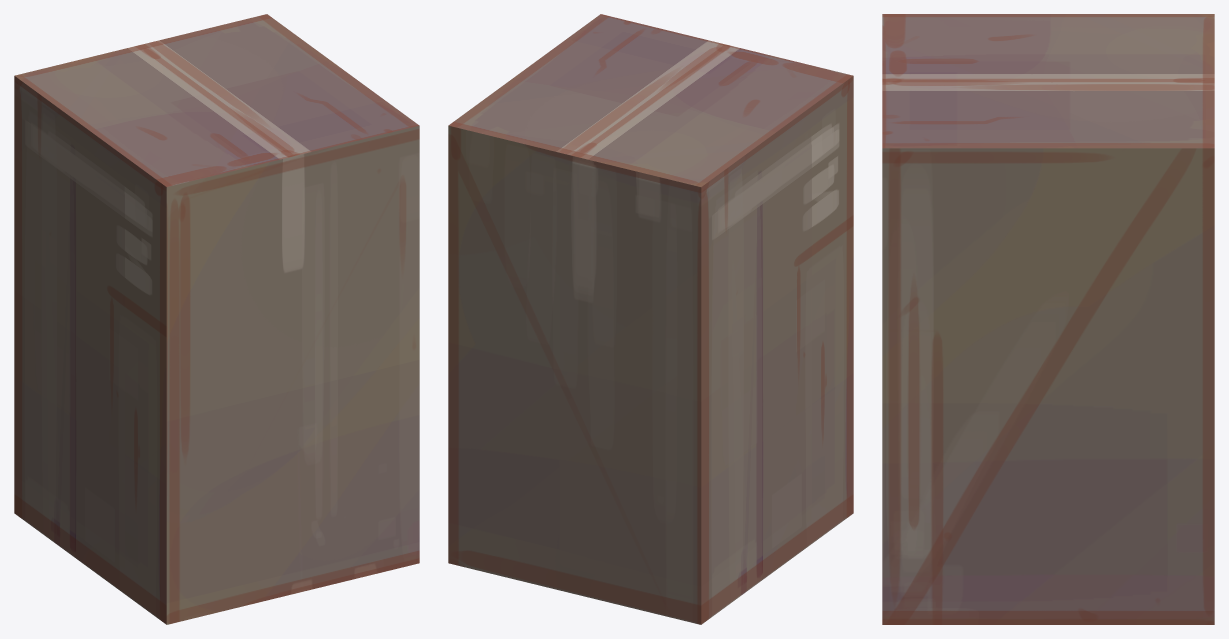
3 renders of one model, left to right at view 1: azimuth 30°, elevation 25°; view 2: azimuth 150°, elevation 25°; view 3: azimuth 270°, elevation 25°, orthographic. The views are drawn at different scales.
Parts seen in each view (by area): view 1: box_04_collision; view 2: box_04_collision; view 3: box_04_collision.
Part boxes in pixels (x1,y1,x2,y2): box_04_collision: [14, 14, 419, 624]; box_04_collision: [448, 14, 853, 624]; box_04_collision: [882, 14, 1214, 624].
Size of the model in its own units: 0.8937 by 1.48 by 0.9334.
